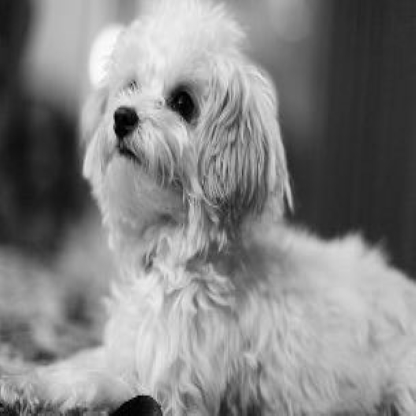maltese: (9, 3, 416, 411)
